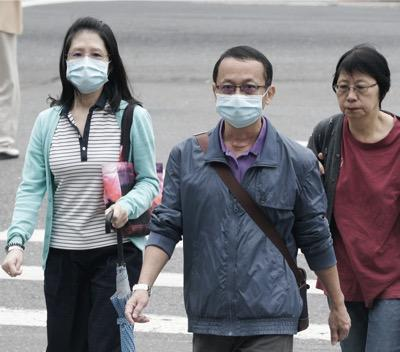with_mask: (212, 77, 266, 128), (65, 43, 110, 93)
without_mask: (335, 78, 379, 119)
